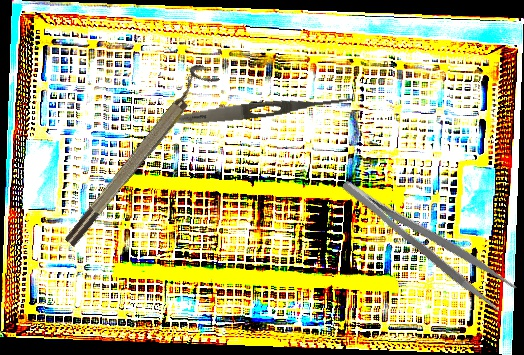Dressing Forceps: (338, 163, 518, 314), (168, 89, 355, 130)
Fixation Ring: (54, 60, 220, 250)
